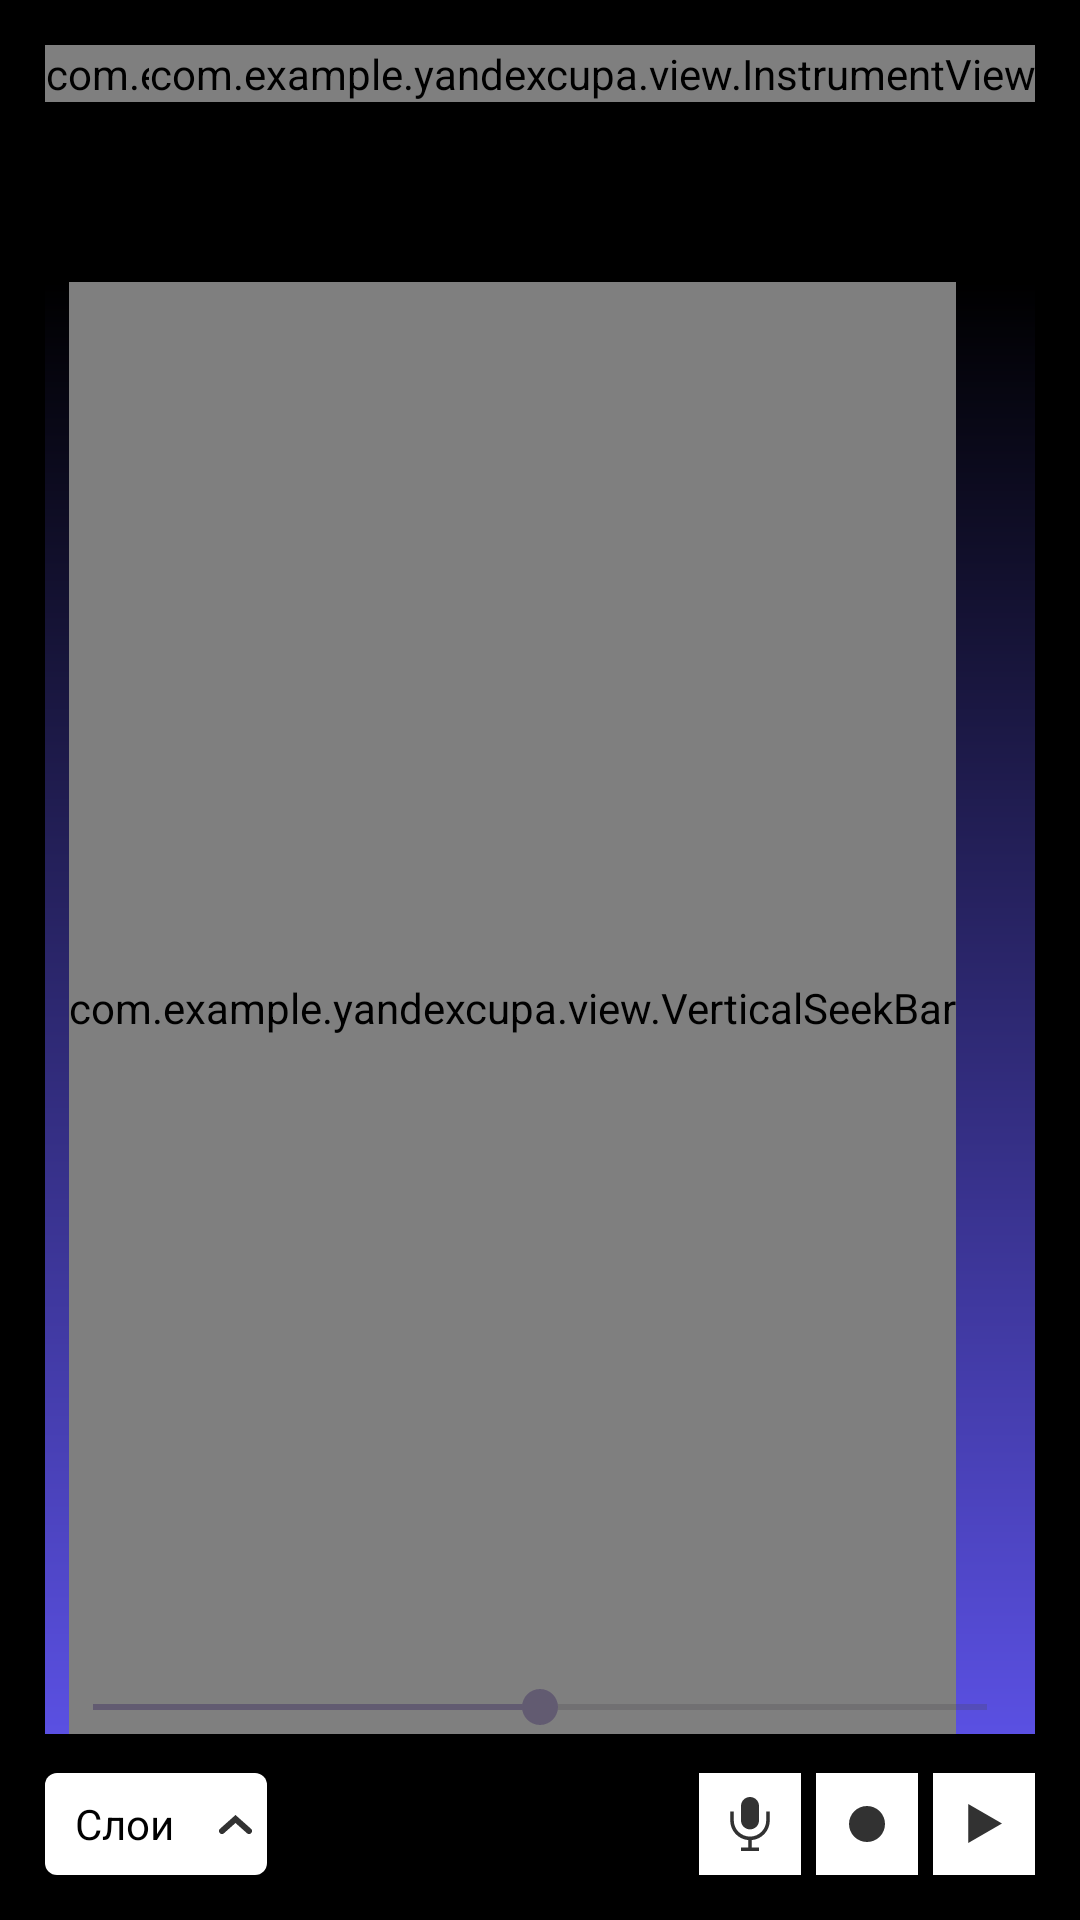

Locate icon controls on the screen. Image size 1080x1920, boxes as (x1, y1, x2, y2).
play: (968, 1804, 1002, 1843)
record: (849, 1806, 885, 1842)
record voice: (730, 1797, 770, 1851)
